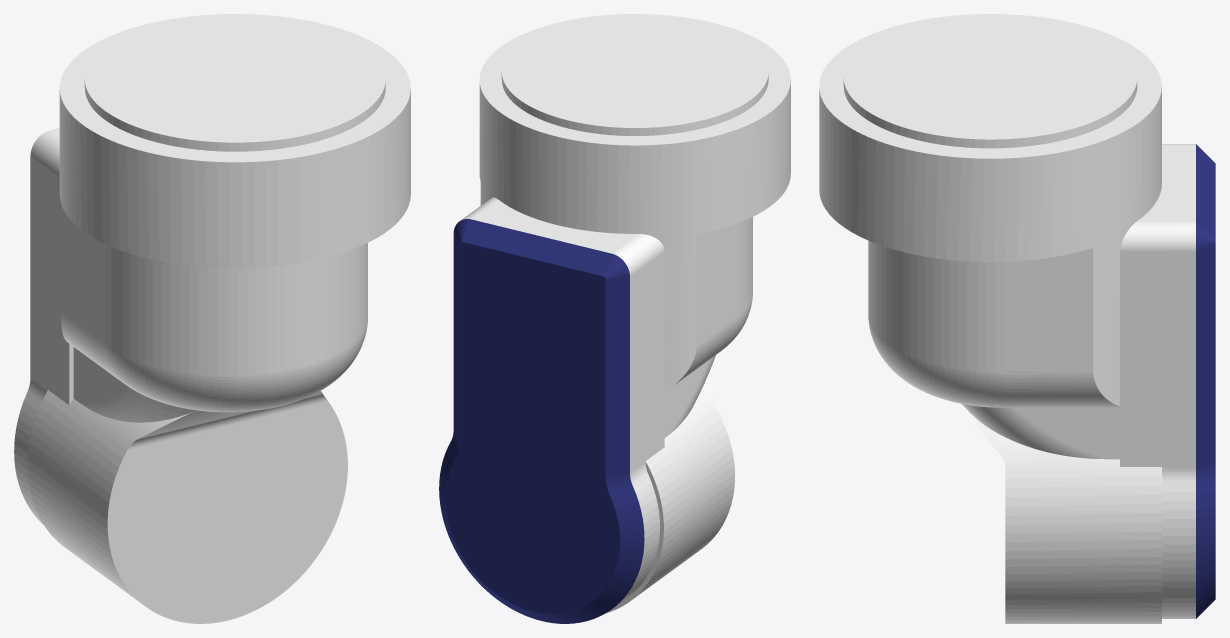
The picture shows the model from 3 angles, left to right: view 1: azimuth 30°, elevation 25°; view 2: azimuth 150°, elevation 25°; view 3: azimuth 270°, elevation 25°; orthographic projection. The views are drawn at different scales.
Parts seen in each view (by area): view 1: Lilnk_R; view 2: Lilnk_R; view 3: Lilnk_R.
Part boxes in pixels (bbox=[...]): Lilnk_R: bbox=[14, 14, 410, 623]; Lilnk_R: bbox=[439, 14, 790, 623]; Lilnk_R: bbox=[819, 14, 1215, 623].
Bounding box in the file's own units: 0.105 × 0.1215 × 0.1805.
Materials: 1 (1 with a texture image).
